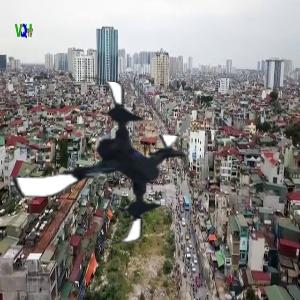drone: (11, 73, 192, 254)
